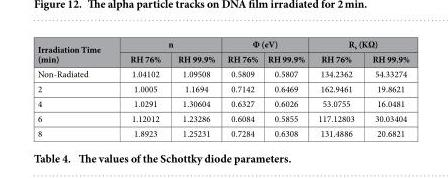table: (36, 37, 408, 138)
table column: (36, 37, 114, 138), (114, 37, 168, 138), (168, 37, 220, 138), (310, 37, 362, 138), (262, 37, 310, 138), (362, 37, 408, 138), (220, 37, 262, 138)
table column header: (36, 37, 408, 66)
table row: (36, 51, 408, 66), (36, 80, 408, 95), (36, 95, 408, 110), (36, 110, 408, 125), (36, 37, 408, 51), (36, 66, 408, 80), (36, 125, 408, 138)
table spanning cell: (36, 37, 114, 66), (114, 37, 220, 51), (310, 37, 408, 51), (220, 37, 310, 51)
